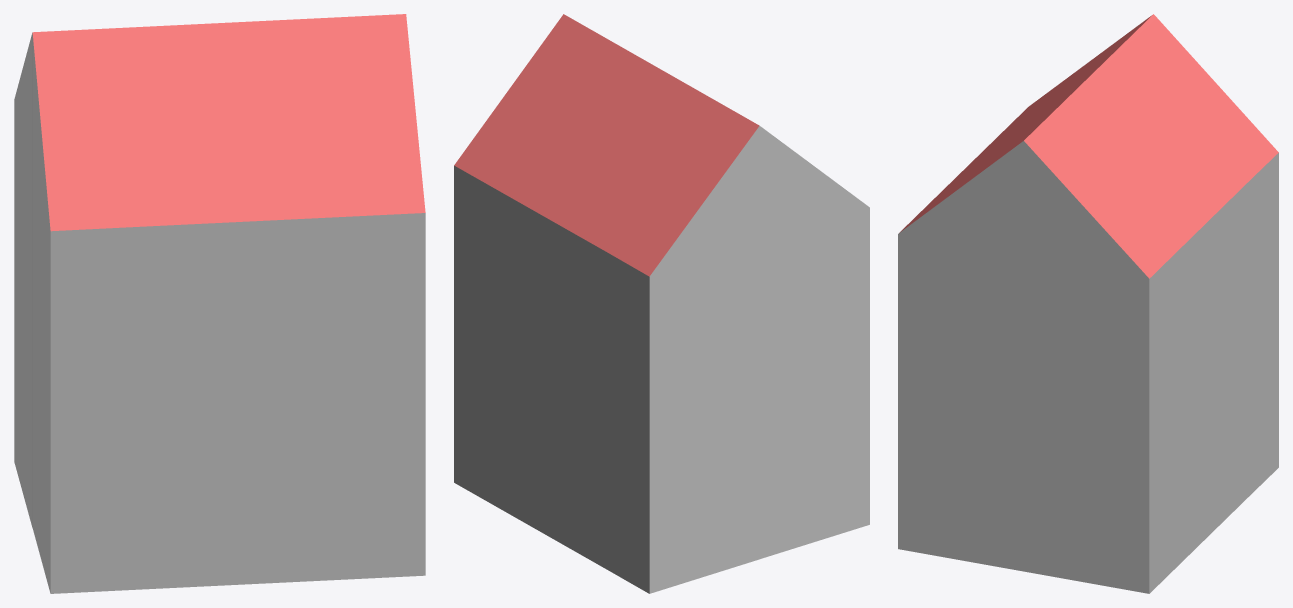
Rendered from DEBY_LOD2_4907185.gltf.
3 views of the same model, side by side, from view 1: azimuth 30°, elevation 25°; view 2: azimuth 150°, elevation 25°; view 3: azimuth 270°, elevation 25° (orthographic). The views are drawn at different scales.
Parts seen in each view (by area): view 1: Z_UP; view 2: Z_UP; view 3: Z_UP.
Part boxes in pixels (x1,y1,x2,y2): Z_UP: [14, 14, 425, 593]; Z_UP: [454, 14, 869, 593]; Z_UP: [898, 14, 1278, 593].
Bounding box in the file's own units: 17.3 × 20.2 × 16.18.
